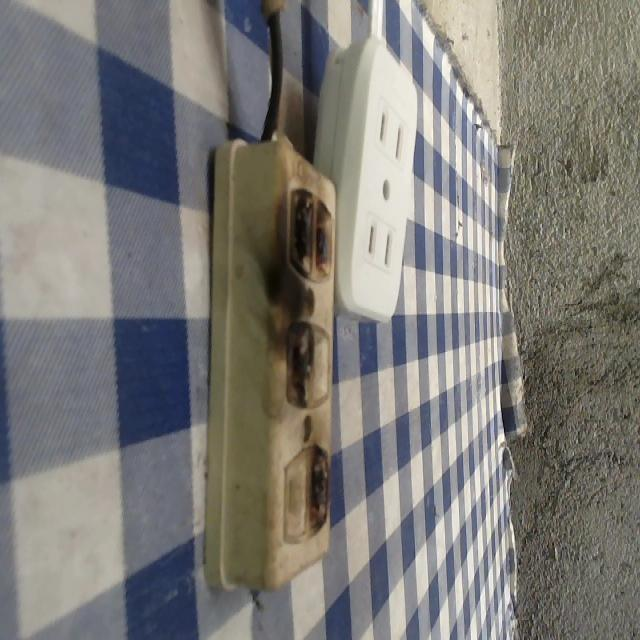-: (278, 180, 341, 281), (279, 322, 321, 418), (307, 444, 335, 545)
